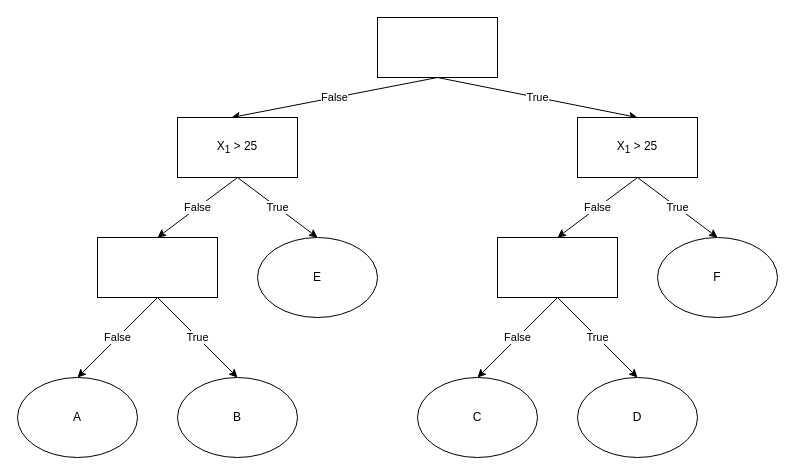
The diagram is 795 pixels wide and 475 high, and some of its shapes have lost their labels. The box of each missing label's shape, as (x1, y1, x2, y2) in pixels:
x 1 > 10: (96, 236, 218, 298)
x 1 > 5: (496, 236, 618, 298)
X 2 > 15: (376, 16, 498, 78)
